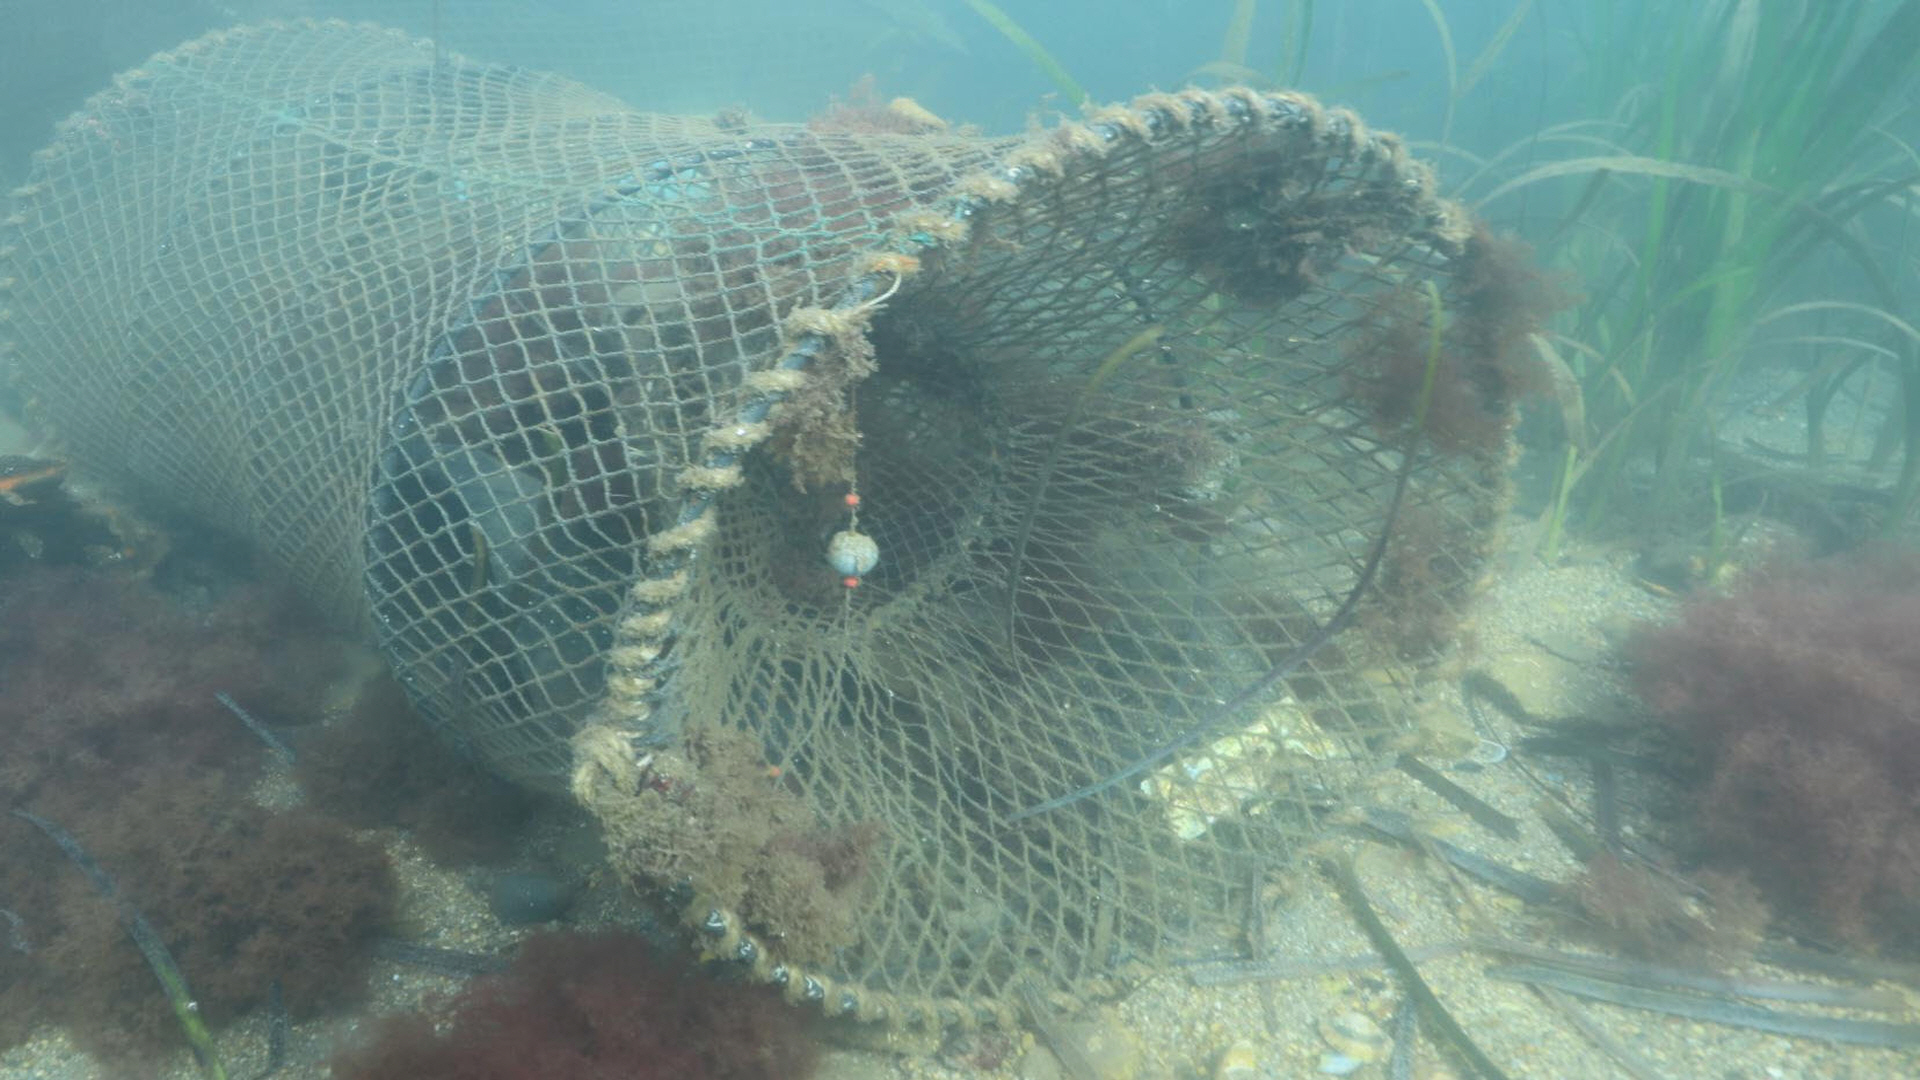spring fish trap: (0, 12, 1526, 1038)
